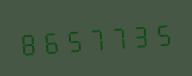eight: (17, 25, 38, 59)
five: (61, 22, 82, 56), (149, 16, 170, 50)
seven: (83, 20, 104, 55), (105, 19, 126, 53)
six: (39, 23, 60, 58)
three: (127, 17, 148, 52)
